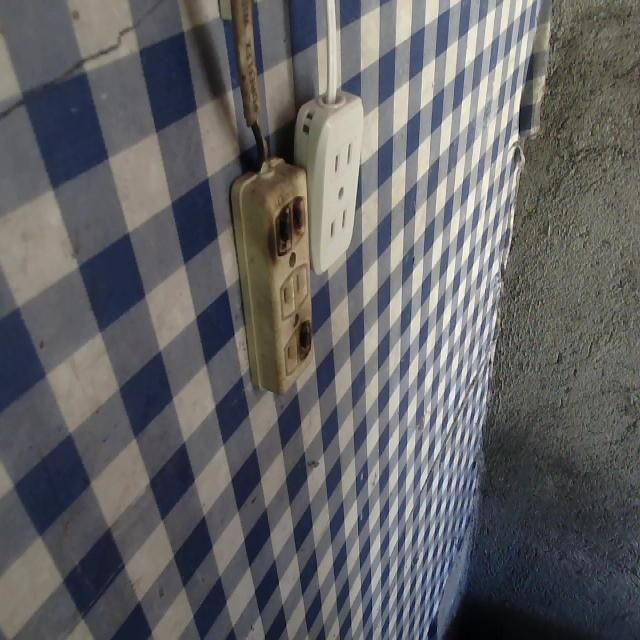-: (268, 194, 312, 254), (295, 318, 314, 358)
